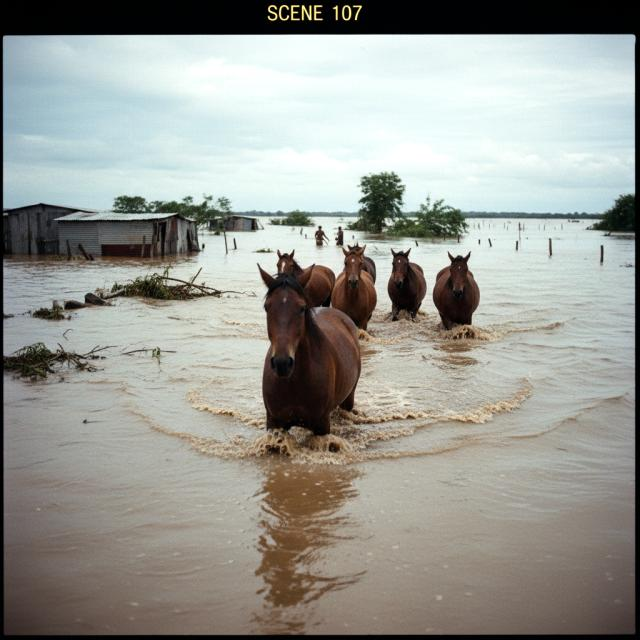civilian: (313, 225, 331, 248), (332, 225, 348, 248)
horse: (230, 266, 364, 446), (433, 245, 483, 331), (331, 250, 380, 327), (275, 247, 334, 307), (385, 247, 428, 324), (344, 244, 380, 290)
